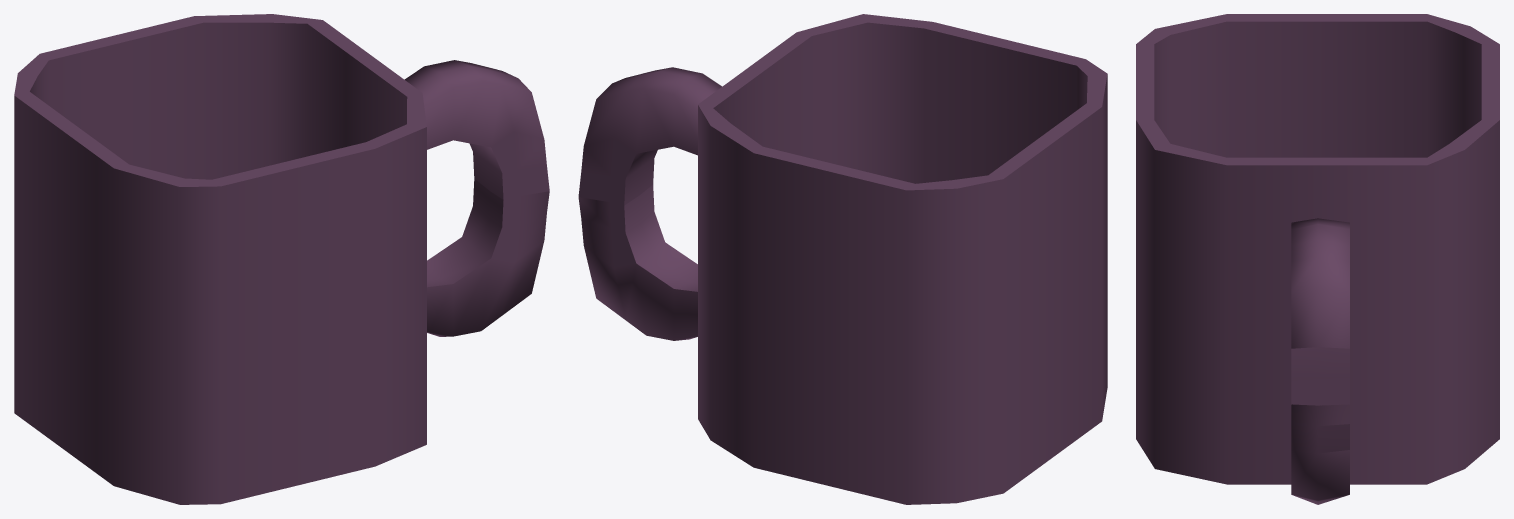
File: Cup_01.fbx
3 views of the same model, side by side, from view 1: azimuth 30°, elevation 25°; view 2: azimuth 150°, elevation 25°; view 3: azimuth 270°, elevation 25° (orthographic).
Visible parts, largest first — view 1: Empty_Mesh; view 2: Empty_Mesh; view 3: Empty_Mesh.
Boxes of the visible parts, x1,y1,x2,y2 form: Empty_Mesh: (14, 14, 549, 504); Empty_Mesh: (578, 14, 1107, 504); Empty_Mesh: (1136, 14, 1499, 504).
Bounding box in the file's own units: 185 × 120 × 124.
